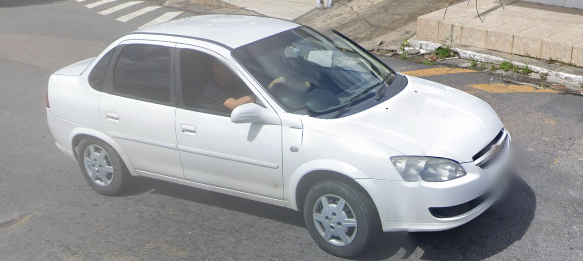car: (44, 15, 515, 258)
